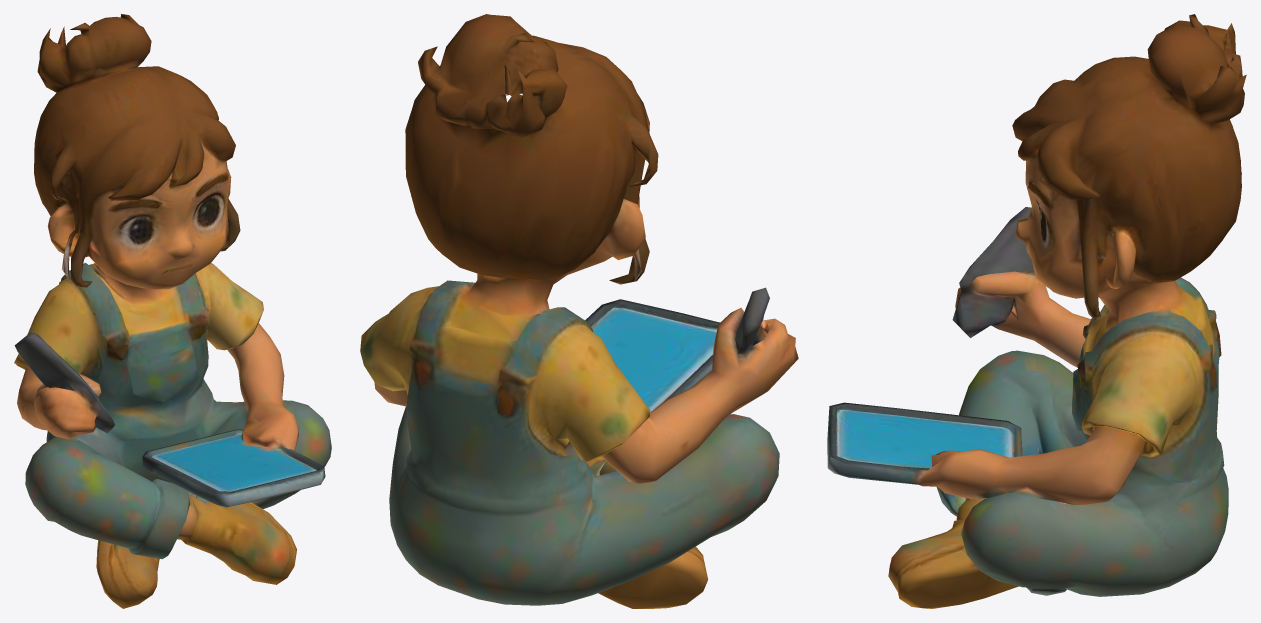
File: ArtyAna.glb
3 views of the same model, side by side, from view 1: azimuth 30°, elevation 25°; view 2: azimuth 150°, elevation 25°; view 3: azimuth 270°, elevation 25° (orthographic). The views are drawn at different scales.
Visible parts, largest first — view 1: Arty Ana; view 2: Arty Ana; view 3: Arty Ana.
Part boxes in pixels (x1,y1,x2,y2): Arty Ana: (14,14,331,608); Arty Ana: (360,14,798,608); Arty Ana: (827,14,1246,608).
Bounding box in the file's own units: 0.8765 × 1.48 × 0.9655.
Materials: 1 (1 with a texture image).
